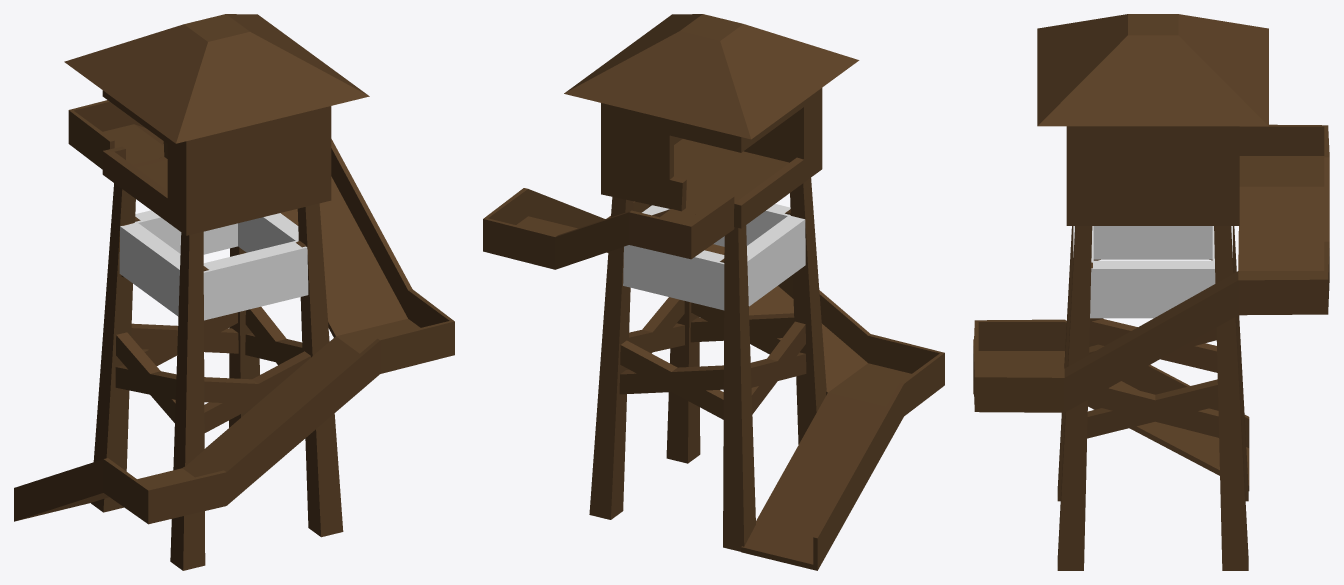
The model's file is watchtower.glb.
3 views of the same model, side by side, from view 1: azimuth 30°, elevation 25°; view 2: azimuth 150°, elevation 25°; view 3: azimuth 270°, elevation 25° (orthographic). The views are drawn at different scales.
Visible parts, largest first — view 1: Plane, Plane.001, Cube.001, support-colonly.001, Cube.004, Cube.003, Cube.005, vsupport, vsupport.006, vsupport.002, vsupport.004, Cube.006; view 2: Plane, Plane.001, Cube.001, support-colonly.001, Cube.005, Cube.006, Cube.004, vsupport.002, Cube.003, vsupport, vsupport.006, vsupport.004; view 3: Plane, Plane.001, Cube.001, support-colonly.001, Cube.006, Cube.003, vsupport.004, vsupport.006, Cube.004, Cube.005.
Part boxes in pixels (x1,y1,x2,y2): Plane: (14, 100, 454, 524); Plane.001: (64, 14, 369, 143); Cube.001: (102, 90, 331, 235); support-colonly.001: (119, 210, 308, 320); Cube.004: (170, 231, 205, 570); Cube.003: (297, 203, 343, 537); Cube.005: (91, 183, 135, 512); vsupport: (204, 351, 310, 432); vsupport.006: (115, 332, 176, 422); vsupport.002: (131, 312, 238, 365); vsupport.004: (245, 306, 302, 365); Cube.006: (229, 246, 259, 427); Plane: (483, 188, 944, 570); Plane.001: (564, 14, 859, 139); Cube.001: (601, 88, 822, 228); support-colonly.001: (623, 204, 805, 310); Cube.005: (723, 225, 755, 551); Cube.006: (589, 197, 633, 519); Cube.004: (790, 178, 826, 444); vsupport.002: (619, 340, 723, 419); Cube.003: (666, 301, 700, 463); vsupport: (690, 302, 794, 354); vsupport.006: (750, 321, 806, 414); vsupport.004: (628, 297, 684, 369); Plane: (973, 124, 1329, 490); Plane.001: (1037, 14, 1268, 126); Cube.001: (1066, 126, 1239, 225); support-colonly.001: (1073, 226, 1232, 318); Cube.006: (1214, 226, 1248, 570); Cube.003: (1057, 226, 1092, 570); vsupport.004: (1087, 379, 1218, 438); vsupport.006: (1089, 319, 1217, 372); Cube.004: (1057, 226, 1073, 501); Cube.005: (1233, 226, 1248, 501).
Size of what is drawn, in the model's own units: 17.13 by 25.94 by 16.56.
